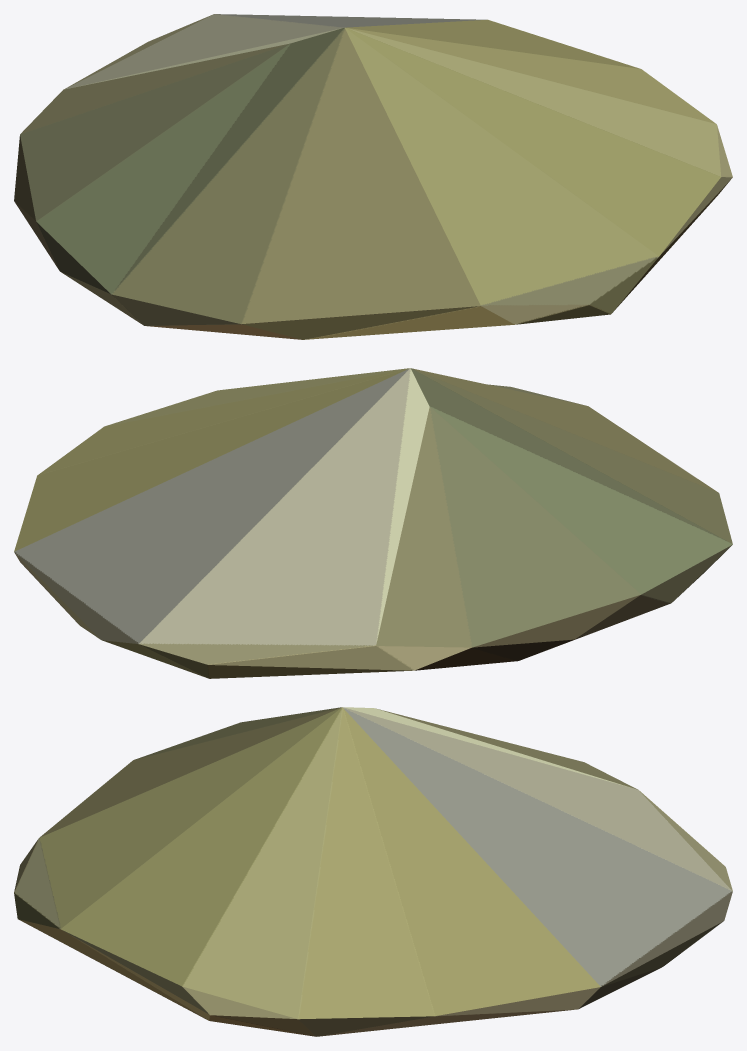
File: sand.fbx
The picture shows the model from 3 angles, top to bottom: view 1: azimuth 30°, elevation 25°; view 2: azimuth 150°, elevation 25°; view 3: azimuth 270°, elevation 25°; orthographic projection. The views are drawn at different scales.
Parts seen in each view (by area): view 1: Mesh_0; view 2: Mesh_0; view 3: Mesh_0.
Boxes of the visible parts, x1,y1,x2,y2 form: Mesh_0: (14,14,732,339); Mesh_0: (14,368,732,678); Mesh_0: (14,707,732,1036).
Bounding box in the file's own units: 113 × 38.3 × 119.
Materials: 1 (1 with a texture image).
